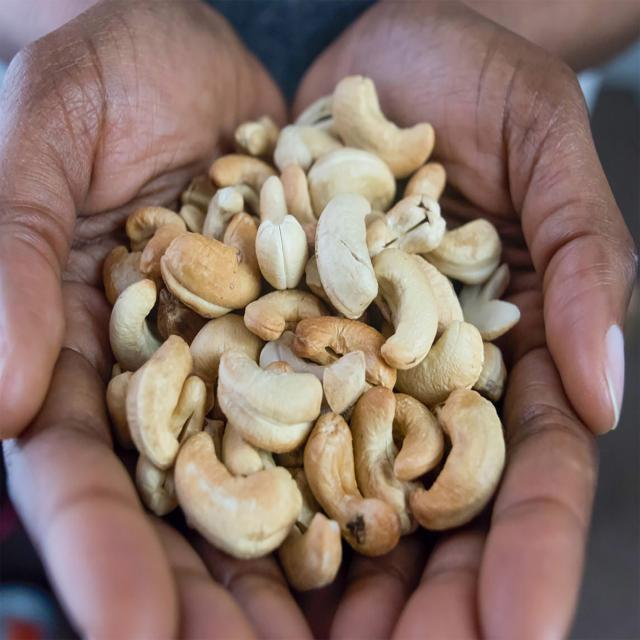Frutta secca: (93, 77, 519, 578)
